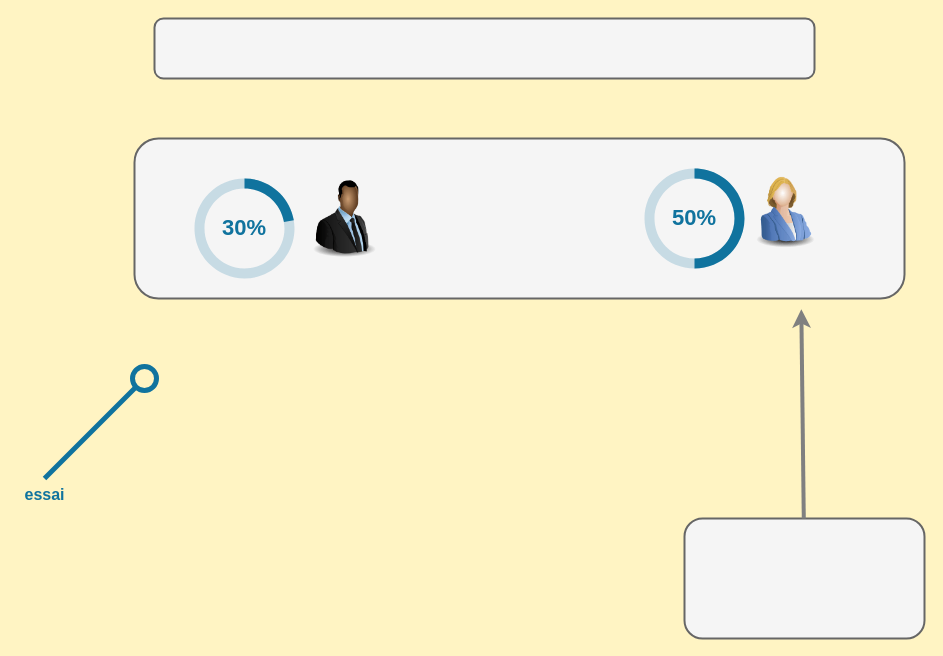
The diagram is 943 pixels wide and 656 high, and some of its shapes have lost their labels. The centre of each missing label's shape, as x and y in pixels:
"dsdfSDFsdSD" goes at point 484,48.
"FsdfSDFGsdgasdgasd sdgsdsdsdasds qsdgsdqsdq sgasgasgarg" goes at point 804,578.
